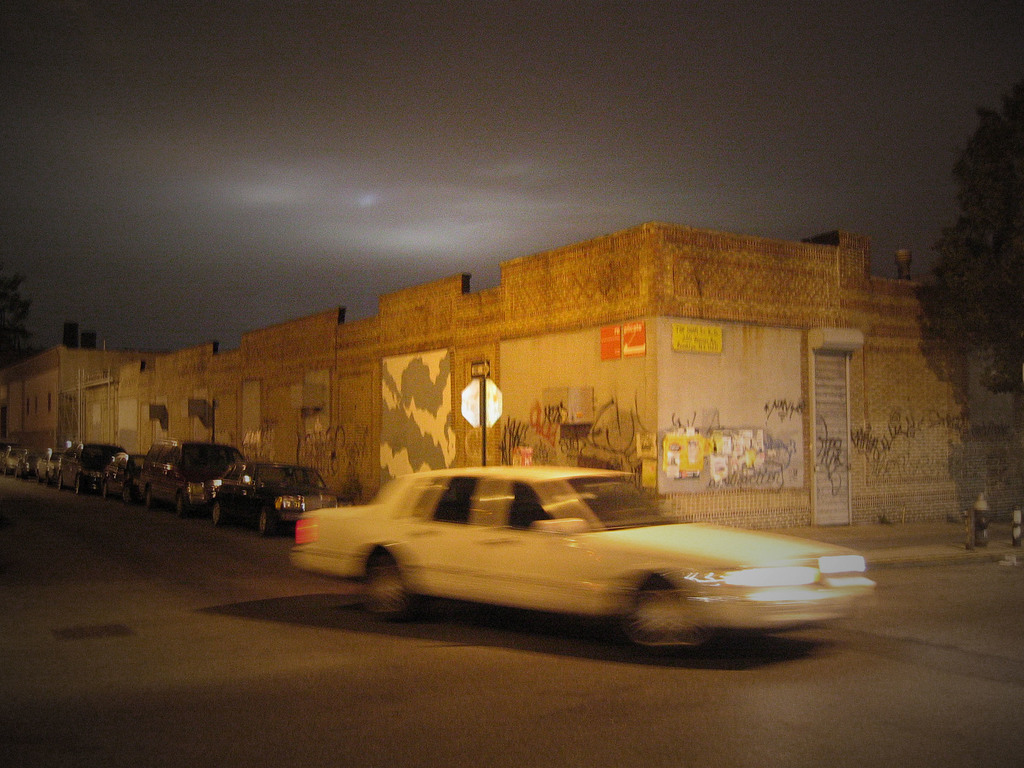Car: (288, 463, 878, 666), (0, 437, 337, 535), (206, 458, 348, 536), (127, 437, 243, 517), (57, 447, 129, 497), (37, 448, 58, 487), (0, 444, 20, 475)
